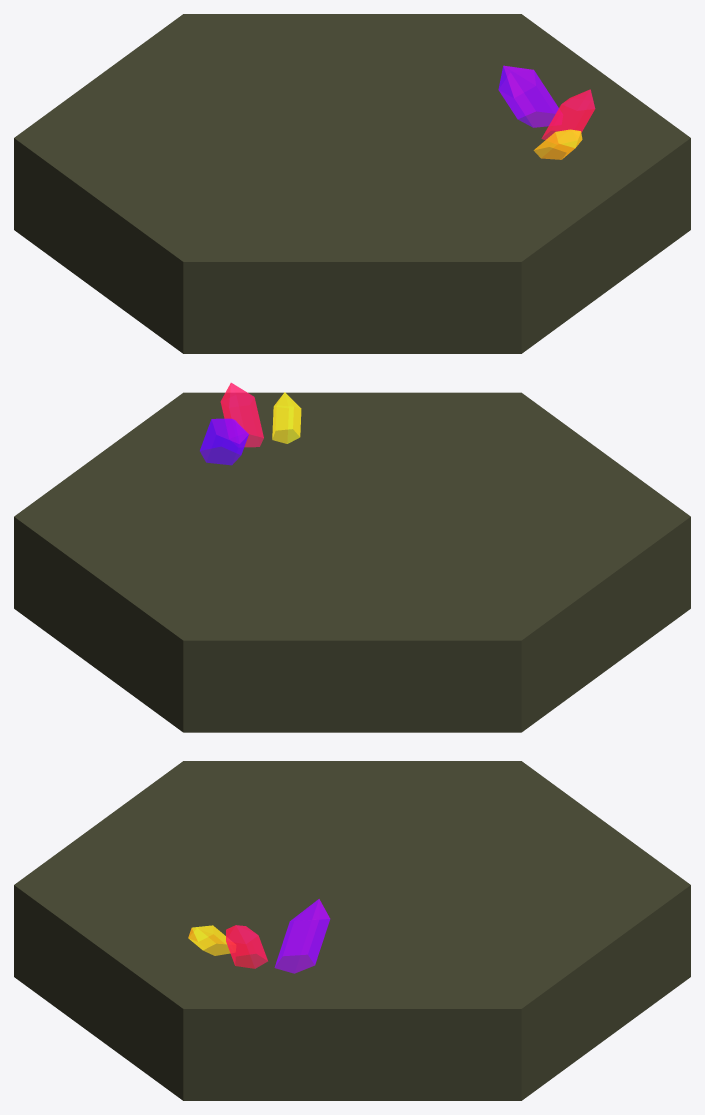
The model's file is GroundUnit(1).fbx.
3 views of the same model, one above another, from view 1: azimuth 30°, elevation 25°; view 2: azimuth 150°, elevation 25°; view 3: azimuth 270°, elevation 25° (orthographic).
Visible parts, largest first — view 1: GroundUnit1; view 2: GroundUnit1; view 3: GroundUnit1.
Boxes of the visible parts, bbox=[...] form: GroundUnit1: bbox=[14, 14, 690, 353]; GroundUnit1: bbox=[14, 382, 690, 732]; GroundUnit1: bbox=[14, 761, 690, 1100].
Size of the model in its own units: 173 by 46.89 by 200.
